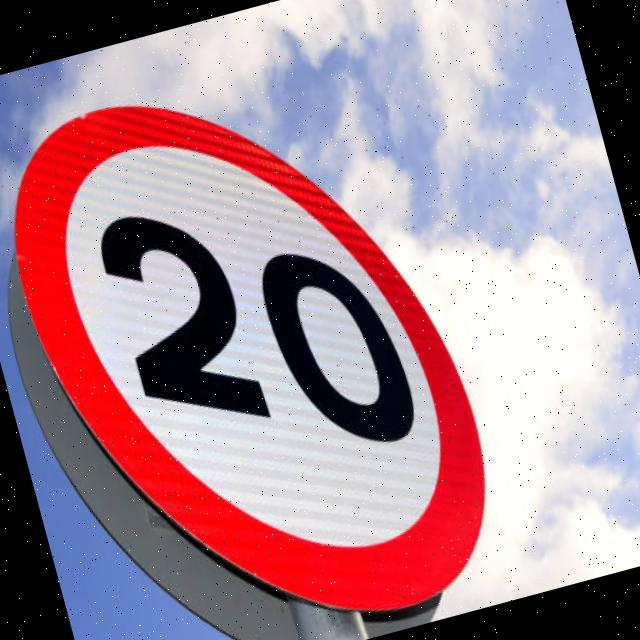speed_limit_20: (0, 21, 532, 640)
